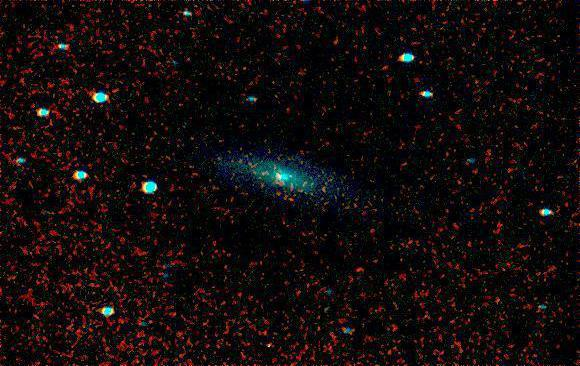star: (276, 162, 306, 192)
